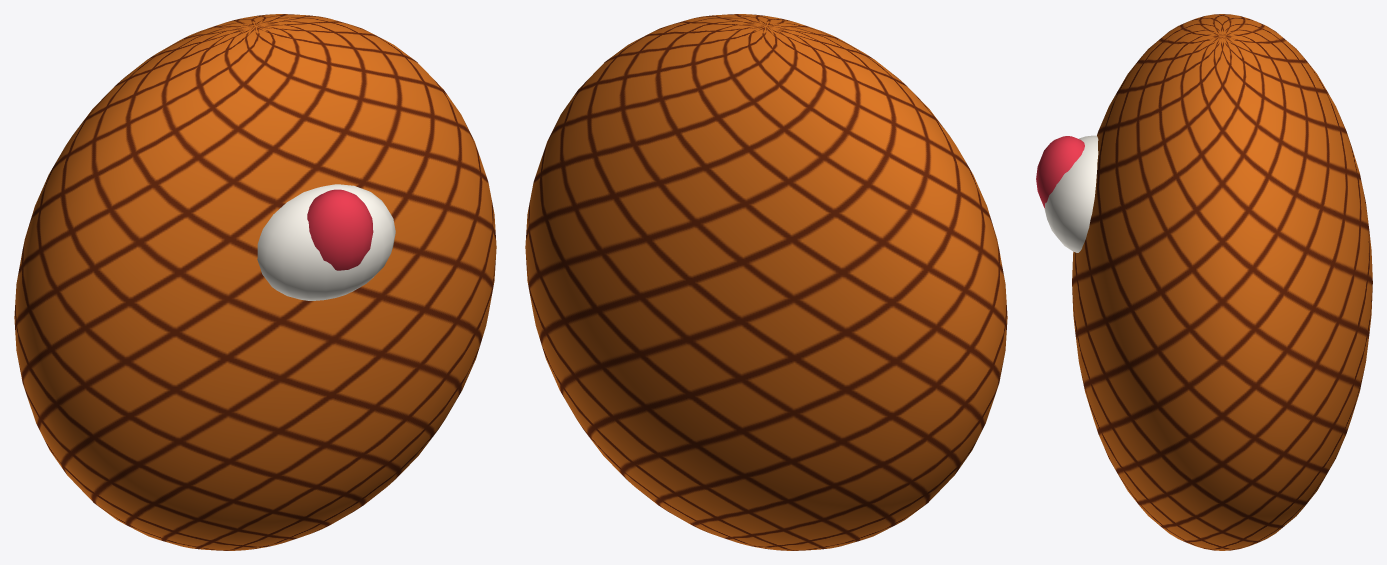
Rendered from tb_mat_vaffel.glb.
3 views of the same model, side by side, from view 1: azimuth 30°, elevation 25°; view 2: azimuth 150°, elevation 25°; view 3: azimuth 270°, elevation 25° (orthographic). The views are drawn at different scales.
Parts seen in each view (by area): view 1: matkropp; view 2: matkropp; view 3: matkropp.
Part boxes in pixels (box(x1,y1,x2,y2)): matkropp: box(14, 14, 496, 550); matkropp: box(525, 14, 1007, 550); matkropp: box(1036, 14, 1372, 550).
Size of the model in its own units: 0.8 by 0.86 by 0.5328.
3 materials, 1 textured.
